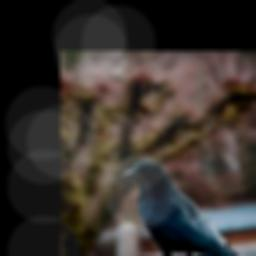Crow: (121, 160, 256, 256)
